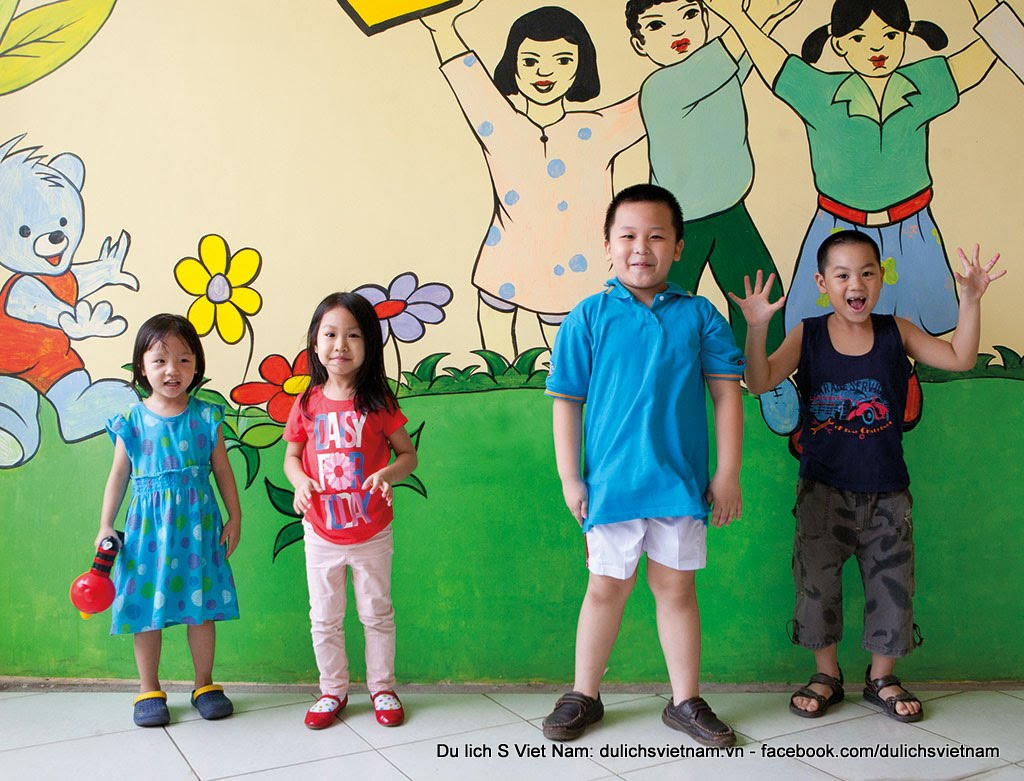person: (752, 232, 967, 713), (549, 189, 733, 748), (278, 288, 430, 732), (103, 307, 253, 734)
